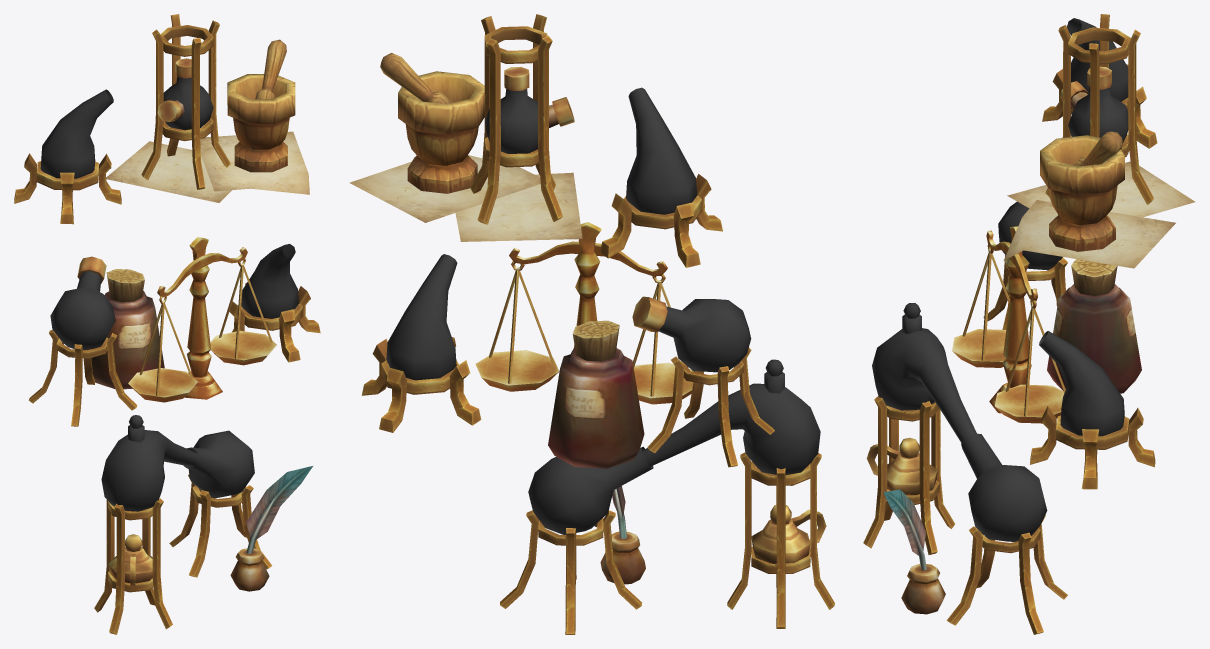
Rendered from Cupboard_Preset_08.FBX.
3 renders of one model, left to right at view 1: azimuth 30°, elevation 25°; view 2: azimuth 150°, elevation 25°; view 3: azimuth 270°, elevation 25°, orthographic. The views are drawn at different scales.
Parts seen in each view (by area): view 1: Cupboard_Preset_08; view 2: Cupboard_Preset_08; view 3: Cupboard_Preset_08.
Boxes of the visible parts, box(x1,y1,x2,y2) form: Cupboard_Preset_08: box(14, 14, 320, 634); Cupboard_Preset_08: box(349, 14, 834, 634); Cupboard_Preset_08: box(863, 14, 1195, 634).
Size of the model in its own units: 104 by 86.33 by 168.
